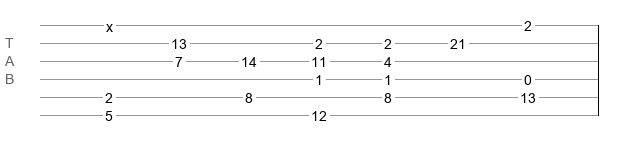0: (524, 72, 532, 82)
1: (315, 72, 323, 82), (384, 72, 392, 82)
11: (311, 54, 327, 64)
12: (311, 108, 327, 118)
13: (171, 36, 187, 46), (520, 90, 536, 100)
14: (241, 54, 257, 64)
2: (105, 90, 113, 100), (315, 36, 323, 46), (384, 36, 392, 46), (524, 18, 532, 28)
21: (450, 36, 466, 46)
4: (384, 54, 392, 64)
5: (105, 108, 113, 118)
7: (175, 54, 183, 64)
8: (245, 90, 253, 100), (384, 90, 392, 100)
x: (106, 19, 113, 27)
